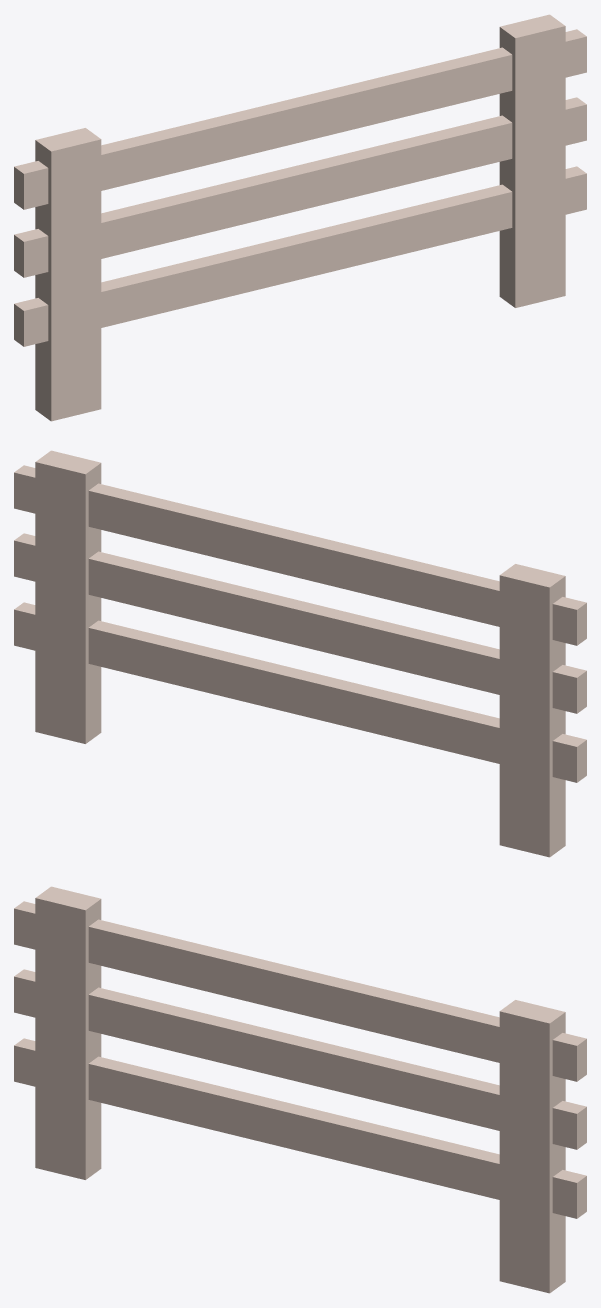
File: fence_cell.fbx
The picture shows the model from 3 angles, top to bottom: view 1: azimuth 30°, elevation 25°; view 2: azimuth 150°, elevation 25°; view 3: azimuth 330°, elevation 25°; orthographic projection.
Parts seen in each view (by area): view 1: pCube6; view 2: pCube6; view 3: pCube6.
Part boxes in pixels (left/top/right/bottom): pCube6: left=14, top=14, right=586, bottom=421; pCube6: left=14, top=450, right=586, bottom=857; pCube6: left=14, top=886, right=586, bottom=1293.
Bounding box in the file's own units: 291 × 133 × 14.12.
